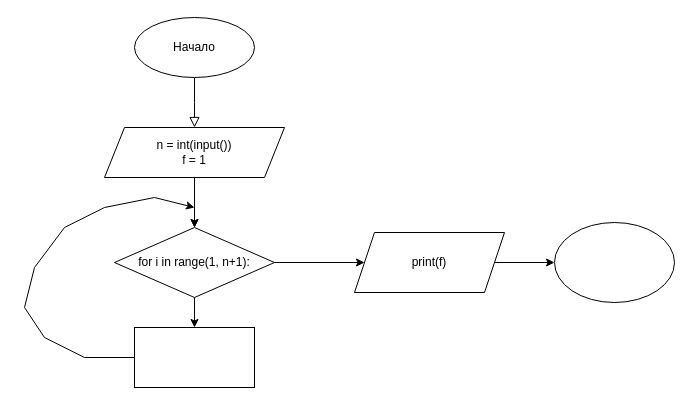
This 692x405 diagram has some shape labels left out. The centre of each missing label's shape, as x and y in pixels:
f *= i: pixel 194 357
Конец: pixel 614 262
